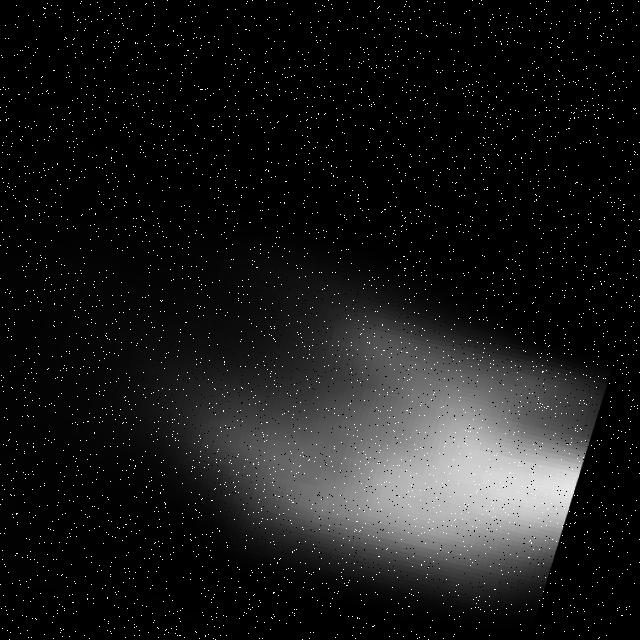person: (44, 187, 632, 640)
